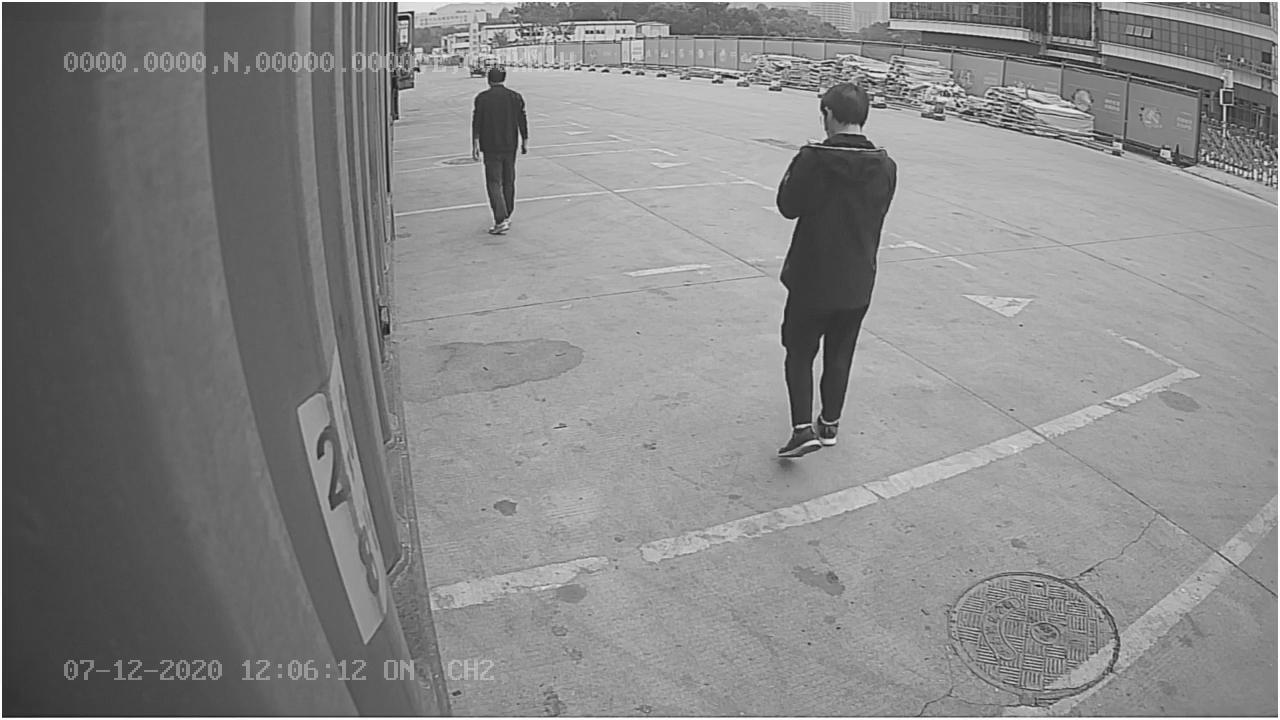person: (775, 82, 895, 465)
